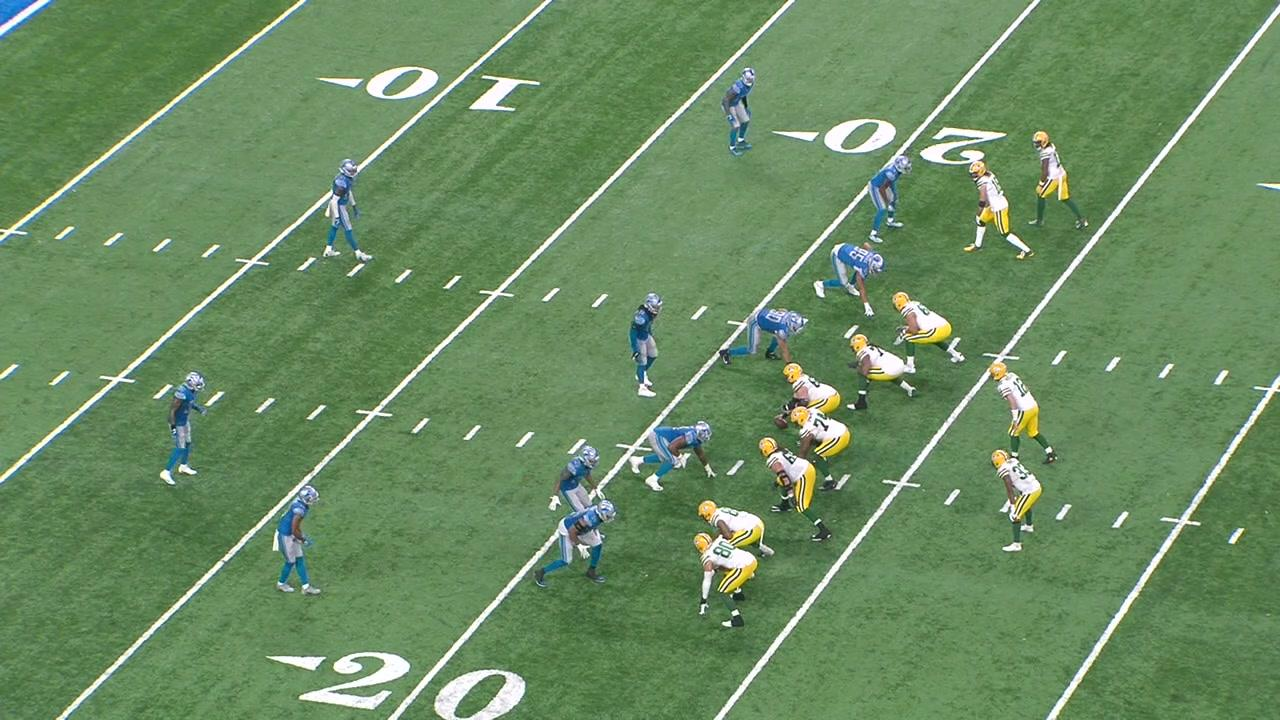defense: (630, 418, 717, 494), (537, 505, 617, 587), (319, 151, 373, 271), (158, 368, 214, 480), (268, 483, 316, 603), (713, 311, 813, 368), (810, 248, 885, 322), (625, 286, 667, 402), (867, 151, 913, 241), (551, 442, 603, 518), (720, 68, 760, 158)
oline: (749, 434, 828, 545), (787, 406, 854, 493), (895, 291, 965, 374), (843, 335, 919, 408), (774, 365, 842, 414)
qb: (989, 364, 1058, 461)
skill: (967, 155, 1034, 267), (1029, 126, 1090, 236), (695, 532, 754, 628), (696, 498, 775, 561), (995, 449, 1044, 549)
